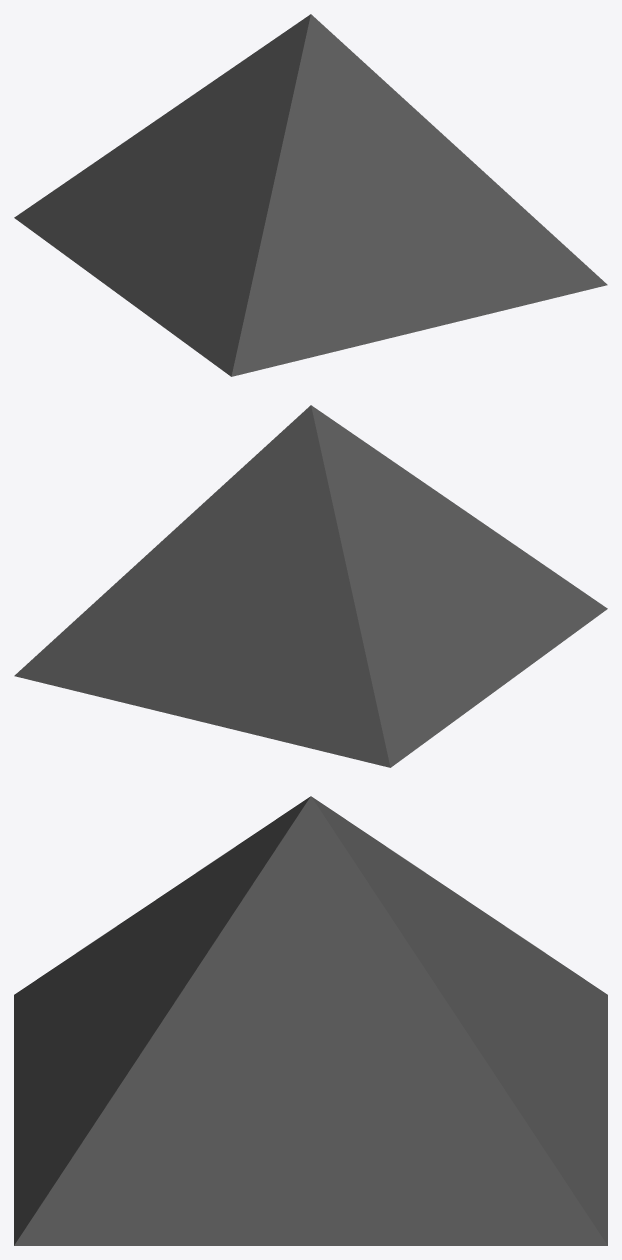
The picture shows the model from 3 angles, top to bottom: view 1: azimuth 30°, elevation 25°; view 2: azimuth 150°, elevation 25°; view 3: azimuth 270°, elevation 25°; orthographic projection. The views are drawn at different scales.
Bounding box in the file's own units: 0.4714 × 0.284 × 0.4714.
Materials: 1 (1 with a texture image).
